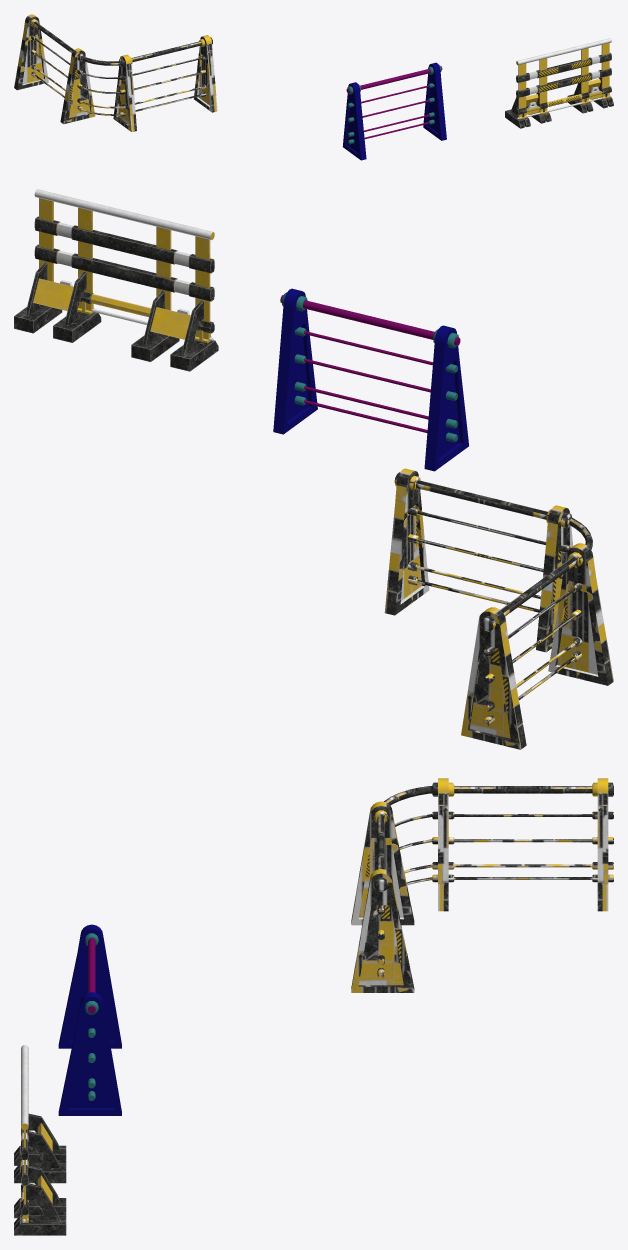
File: obstacle.fbx
3 views of the same model, one above another, from view 1: azimuth 30°, elevation 25°; view 2: azimuth 150°, elevation 25°; view 3: azimuth 270°, elevation 25° (orthographic). The views are drawn at different scales.
Visible parts, largest first — view 1: scifiBanister002_2, scifiBanister001, scifiBanister002; view 2: scifiBanister002_2, scifiBanister001, scifiBanister002; view 3: scifiBanister002_2, scifiBanister002, scifiBanister001.
Part boxes in pixels (x1=…): scifiBanister002_2: x1=14, y1=14, x2=217, y2=131; scifiBanister001: x1=505, y1=38, x2=613, y2=128; scifiBanister002: x1=342, y1=62, x2=446, y2=160; scifiBanister002_2: x1=384, y1=468, x2=613, y2=749; scifiBanister001: x1=14, y1=189, x2=218, y2=371; scifiBanister002: x1=273, y1=288, x2=468, y2=471; scifiBanister002_2: x1=351, y1=778, x2=613, y2=992; scifiBanister002: x1=58, y1=924, x2=121, y2=1115; scifiBanister001: x1=14, y1=1045, x2=66, y2=1235.
Size of the model in its own units: 913 by 144 by 646.
